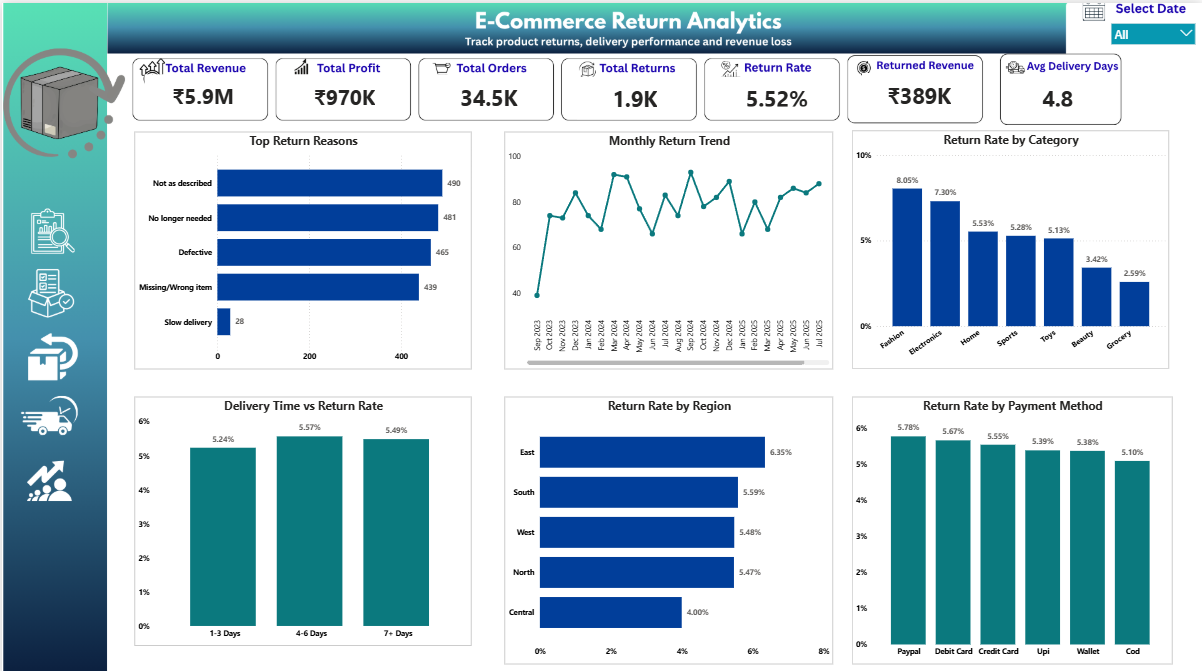

What the dashboard file says about the page in this screenshot:
{"tool":"powerbi","page":{"name":"Executive Overview","canvas":[1920,1080],"ordinal":0},"visuals":[{"type":"cardVisual","fields":{"Data":["orders.Total Revenue"]},"box":[227.8,114.8,187,66.7],"z":0},{"type":"cardVisual","fields":{"Data":["orders.Total Orders"]},"box":[696.3,114.8,166.7,70.4],"z":1000},{"type":"cardVisual","fields":{"Data":["Returns.Total Returns"]},"box":[920.1,117.3,185.2,67.9],"z":2000},{"type":"cardVisual","fields":{"Data":["Returns.Return Rate"]},"box":[1150.6,117.3,179.1,65.9],"z":3000},{"type":"cardVisual","fields":{"Data":["Returns.Returned Revenue"]},"box":[1375.9,113,183.3,68.5],"z":4000},{"type":"cardVisual","fields":{"Data":["orders.Total Profit"]},"box":[456,114,184.6,68.8],"z":5000},{"type":"cardVisual","fields":{"Data":["orders.Avg Delivery Days"]},"box":[1613.7,117.3,150.3,65.9],"z":6000},{"type":"slicer","fields":{"Values":["orders.order_date"]},"box":[1764.4,21.7,155.6,47.1],"z":7000},{"type":"lineChart","title":"Monthly Return Trend","fields":{"Category":["Date_Table.Year Month"],"Y":["Returns.Total Returns"]},"box":[803.7,205.6,525.9,379.6],"z":8000},{"type":"clusteredBarChart","title":"Top Return Reasons","fields":{"Category":["Returns.return_reason"],"Y":["Returns.Total Returns"]},"box":[213,205.6,538.9,379.6],"z":9000},{"type":"clusteredColumnChart","title":"Return Rate by Category","fields":{"Category":["products.category"],"Y":["Returns.Return Rate"]},"box":[1359.3,203.7,507.4,381.5],"z":10000},{"type":"barChart","title":"Return Rate by Region","fields":{"Y":["Returns.Return Rate"],"Category":["customers.region"]},"box":[803.7,629.6,525.9,427.8],"z":11000},{"type":"columnChart","title":"Return Rate by Payment Method","fields":{"Category":["orders.payment_method"],"Y":["Returns.Return Rate"]},"box":[1359.3,629.6,513,427.8],"z":12000},{"type":"clusteredColumnChart","title":"Delivery Time vs Return Rate","fields":{"Y":["Returns.Return Rate"],"Category":["orders.Delivery Range"]},"box":[213,629.6,538.9,398.1],"z":13000}]}

Visuals, with their boxes on the page's 1920x1080 design canvas (x1, y1, x2, y2). These are canvas units, not pixel positions in the 1202x671 screenshot, which may show the page scaled, cropped or inside an application window:
cardVisual - orders.Total Revenue: {"left": 228, "top": 115, "right": 415, "bottom": 182}
cardVisual - orders.Total Orders: {"left": 696, "top": 115, "right": 863, "bottom": 185}
cardVisual - Returns.Total Returns: {"left": 920, "top": 117, "right": 1105, "bottom": 185}
cardVisual - Returns.Return Rate: {"left": 1151, "top": 117, "right": 1330, "bottom": 183}
cardVisual - Returns.Returned Revenue: {"left": 1376, "top": 113, "right": 1559, "bottom": 182}
cardVisual - orders.Total Profit: {"left": 456, "top": 114, "right": 641, "bottom": 183}
cardVisual - orders.Avg Delivery Days: {"left": 1614, "top": 117, "right": 1764, "bottom": 183}
slicer - orders.order_date: {"left": 1764, "top": 22, "right": 1920, "bottom": 69}
"Monthly Return Trend" lineChart: {"left": 804, "top": 206, "right": 1330, "bottom": 585}
"Top Return Reasons" clusteredBarChart: {"left": 213, "top": 206, "right": 752, "bottom": 585}
"Return Rate by Category" clusteredColumnChart: {"left": 1359, "top": 204, "right": 1867, "bottom": 585}
"Return Rate by Region" barChart: {"left": 804, "top": 630, "right": 1330, "bottom": 1057}
"Return Rate by Payment Method" columnChart: {"left": 1359, "top": 630, "right": 1872, "bottom": 1057}
"Delivery Time vs Return Rate" clusteredColumnChart: {"left": 213, "top": 630, "right": 752, "bottom": 1028}
